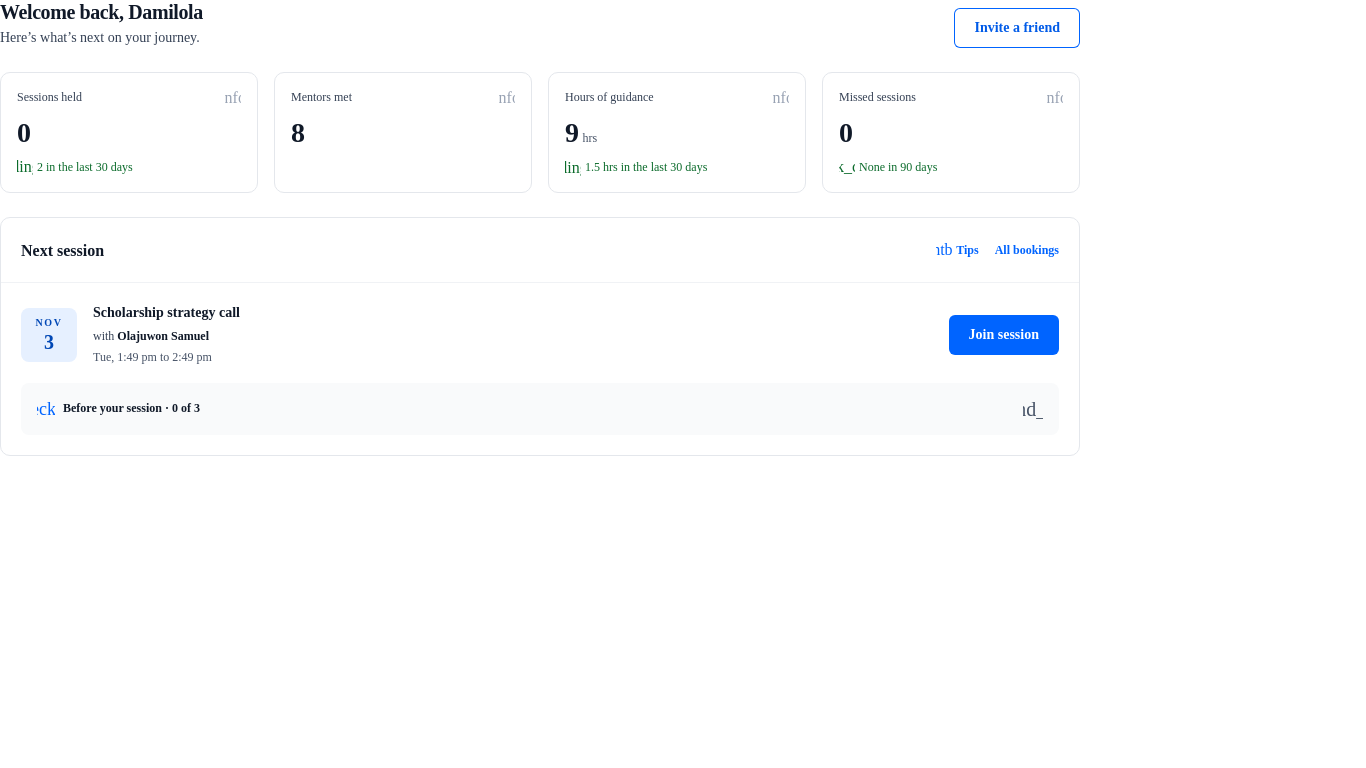
MenteeHomeScreen › Invite a friend: a completed first session ticks "attended", whatever the stats say
Click the button "Invite a friend". click: (1017, 28)
box: [954,8,1080,48]
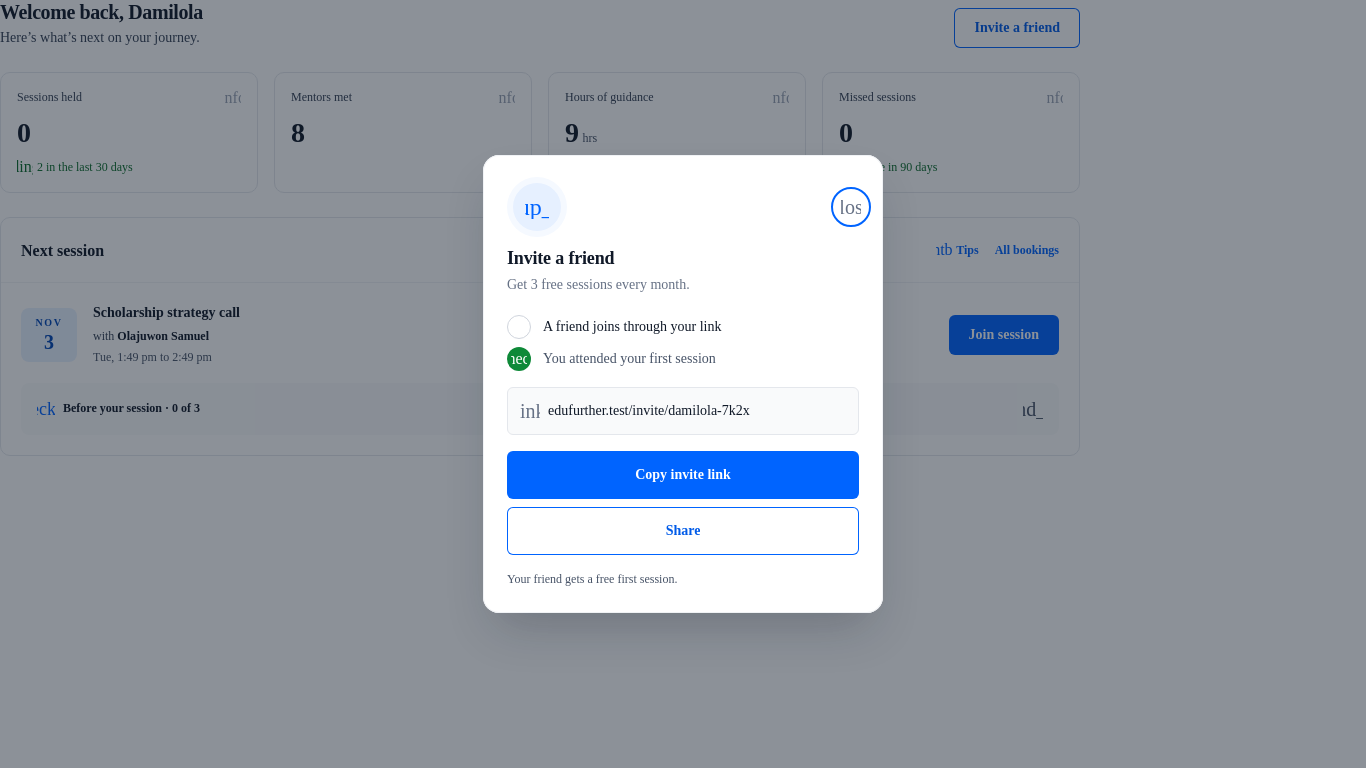
expect the text "You attended your first session" is shown: met, box [543,349,716,369]
